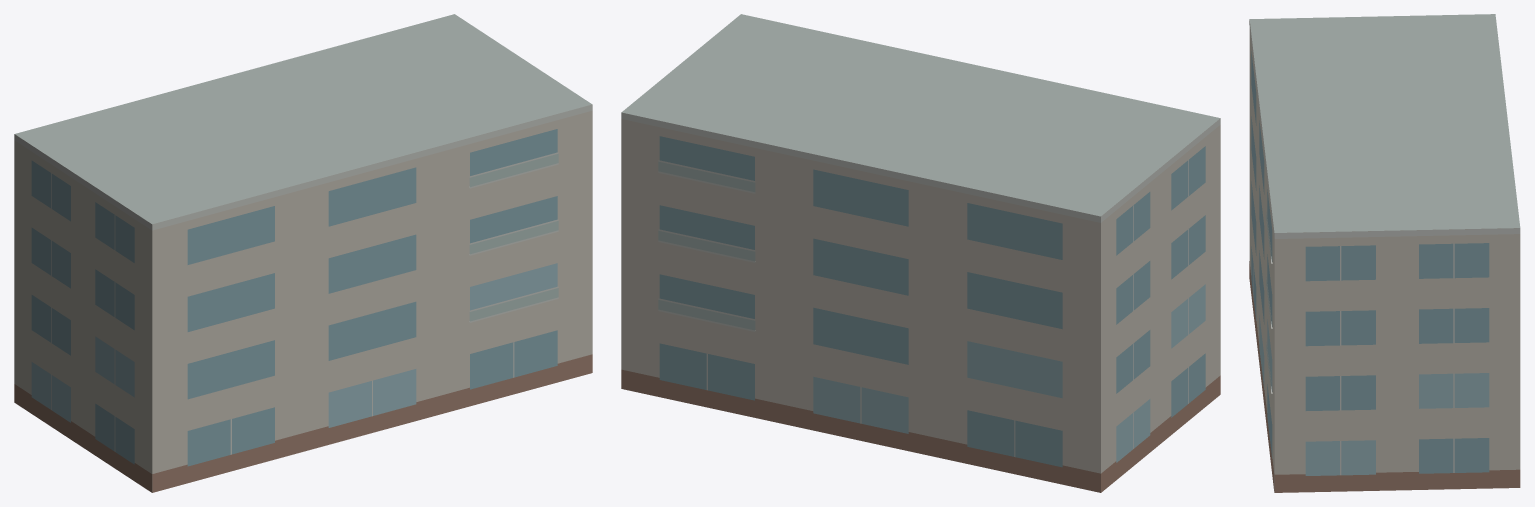
File: survey-upis-32915878.glb
3 renders of one model, left to right at view 1: azimuth 30°, elevation 25°; view 2: azimuth 150°, elevation 25°; view 3: azimuth 270°, elevation 25°, orthographic. The views are drawn at different scales.
Parts seen in each view (by area): view 1: survey-upis-32915878.tmp; view 2: survey-upis-32915878.tmp; view 3: survey-upis-32915878.tmp.
Boxes of the visible parts, bbox=[...] form: survey-upis-32915878.tmp: bbox=[14, 14, 592, 492]; survey-upis-32915878.tmp: bbox=[621, 14, 1220, 492]; survey-upis-32915878.tmp: bbox=[1249, 14, 1520, 492].
Size of the model in its own units: 18.99 by 10.5 by 9.93.
